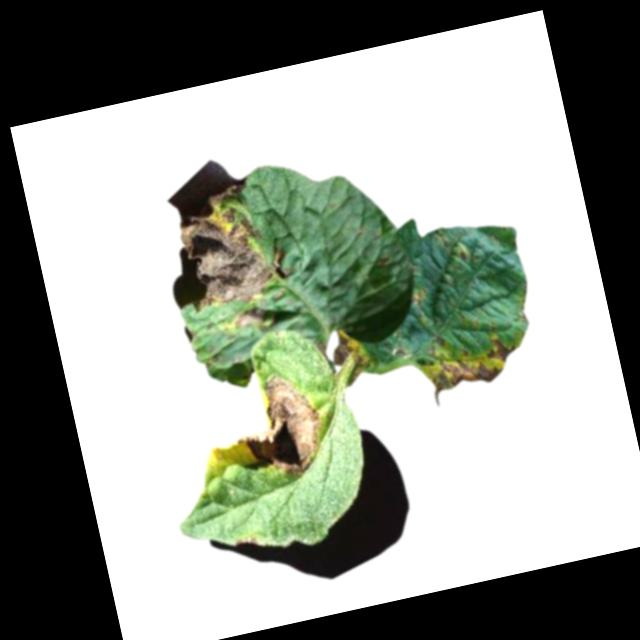Early_blight: (164, 173, 294, 311), (224, 366, 331, 486), (410, 330, 523, 396), (325, 324, 368, 383), (228, 305, 265, 329)
